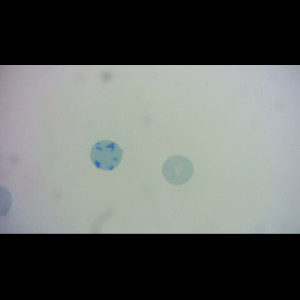aggregate reticulocyte: (88, 138, 124, 172)
erythrocyte: (161, 153, 195, 186)
